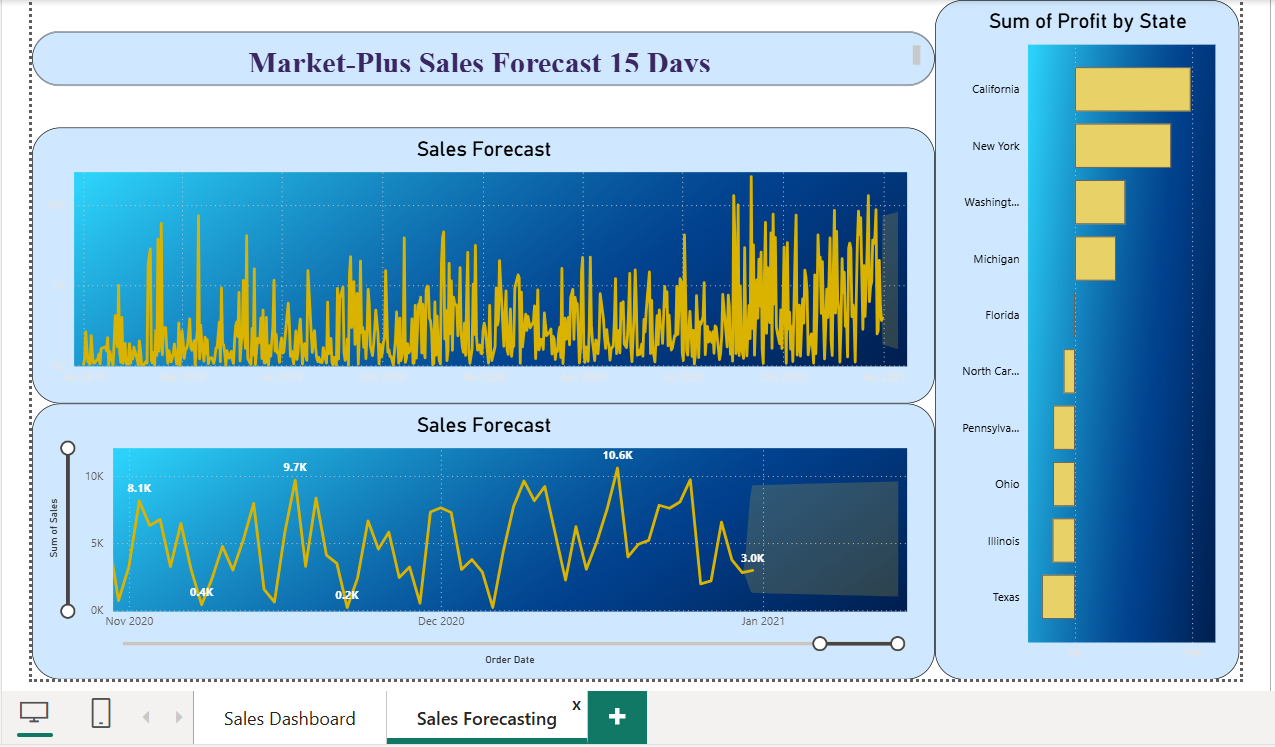

What the dashboard file says about the page in this screenshot:
{"tool":"powerbi","page":{"name":"Sales Forecasting","canvas":[1280,720],"ordinal":1},"visuals":[{"type":"lineChart","title":"Sales Forecast","fields":{"Y":["Sum(SuperStore_Sales_Dataset.Sales)"],"Category":["SuperStore_Sales_Dataset.Order Date"]},"box":[0,135.2,957.5,292.7],"z":0},{"type":"lineChart","title":"Sales Forecast","fields":{"Y":["Sum(SuperStore_Sales_Dataset.Sales)"],"Category":["SuperStore_Sales_Dataset.Order Date"]},"box":[0,427.9,957.5,292.7],"z":1000},{"type":"barChart","fields":{"Category":["SuperStore_Sales_Dataset.State"],"Y":["Sum(SuperStore_Sales_Dataset.Profit)"]},"box":[957.5,0,322.9,720.5],"z":2000},{"type":"textbox","box":[0,33.4,957.5,57.3],"z":3000}]}

Visuals, with their boxes in screenshot pixels (x1, y1, x2, y2):
"Sales Forecast" lineChart: 27:121:934:399
"Sales Forecast" lineChart: 27:399:934:676
barChart - SuperStore_Sales_Dataset.State x Sum(SuperStore_Sales_Dataset.Profit): 934:0:1240:676
textbox: 27:25:934:79
